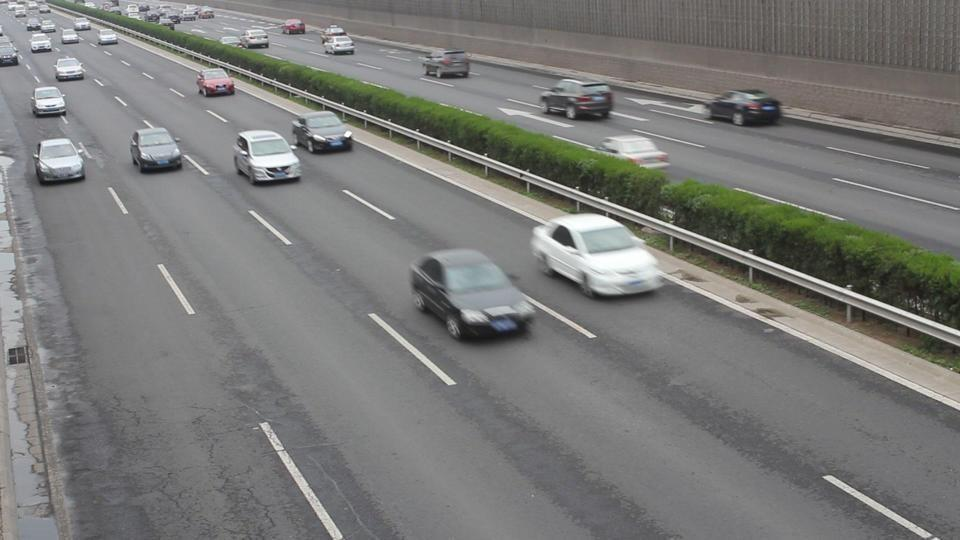car: (408, 248, 536, 341), (530, 212, 664, 300), (234, 117, 349, 174), (232, 129, 302, 186), (538, 78, 615, 121), (706, 89, 781, 127), (291, 110, 353, 154), (128, 126, 184, 173), (597, 134, 670, 170), (32, 136, 86, 184), (421, 48, 470, 78), (195, 69, 236, 97), (31, 86, 68, 117), (53, 56, 84, 82), (29, 35, 53, 53)
